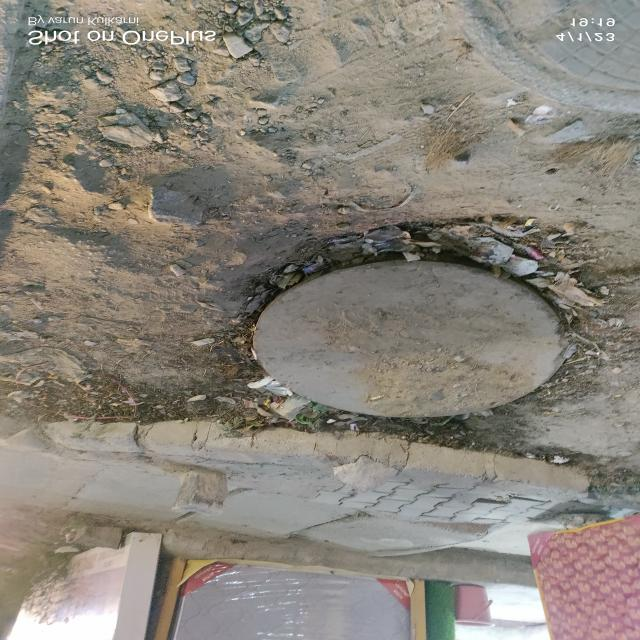manhole: (242, 244, 606, 436)
